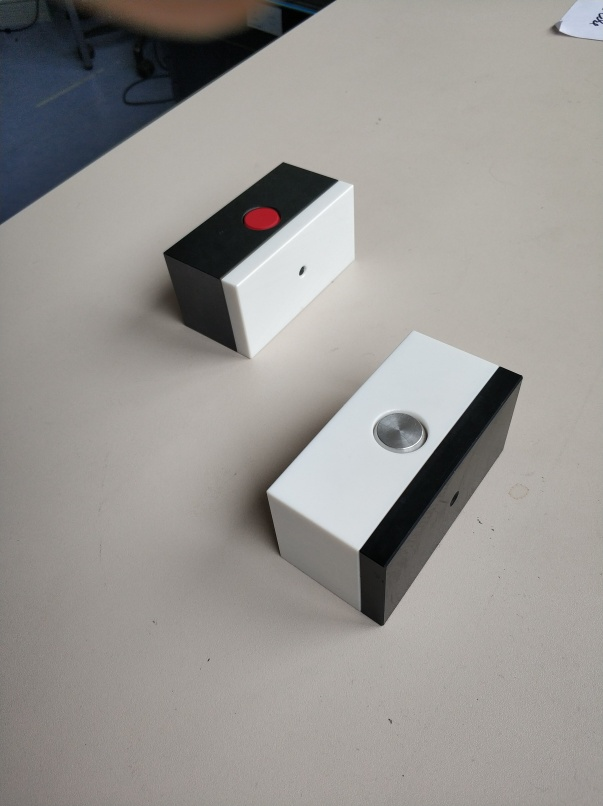black+white+silver: (270, 328, 525, 621)
white+black+red: (160, 159, 360, 360)
